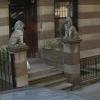Statue: (52, 11, 80, 53)
